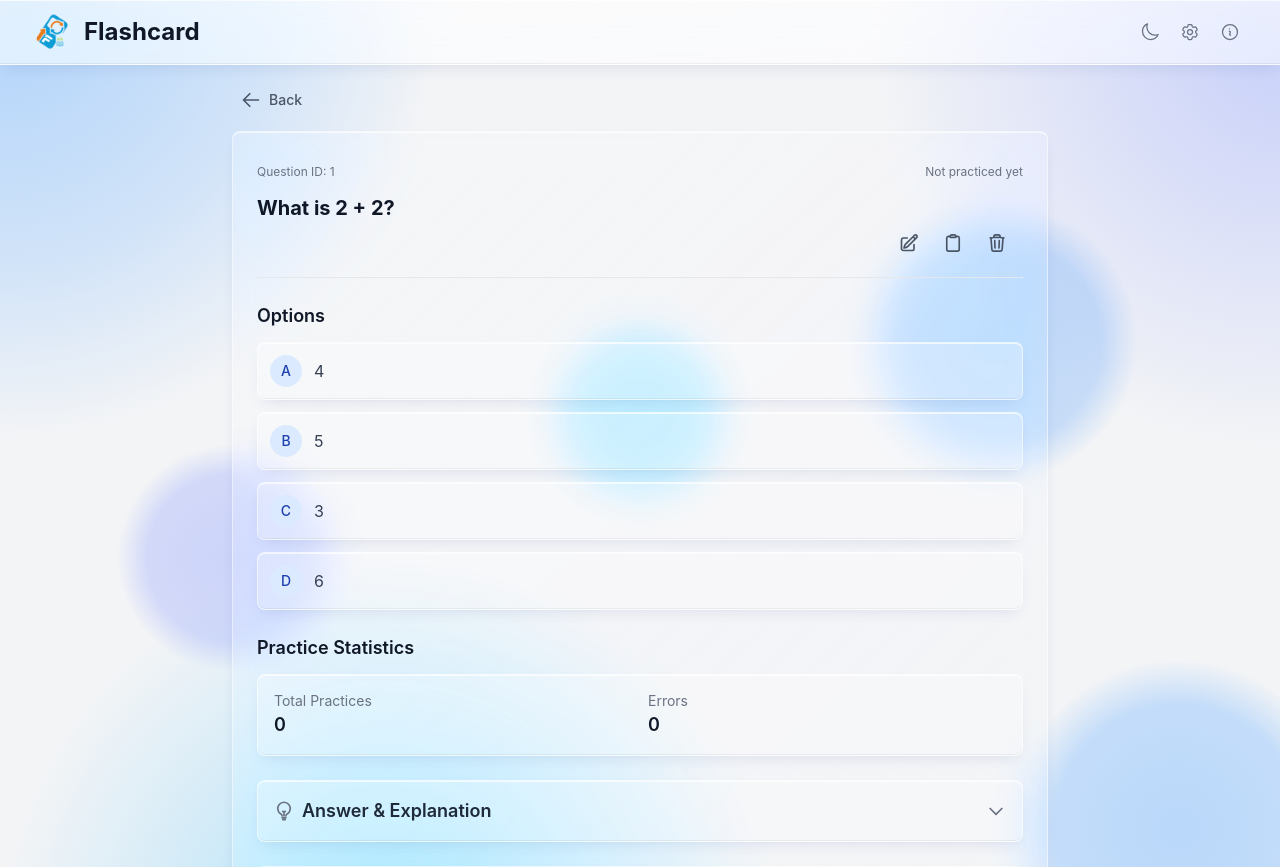
Test: QuestionDetailPage › cancels the delete confirmation without deleting
Expected: the heading "What is 2 + 2?" is shown, [257,196,395,220]
Click the button named "Delete question" at [997, 242], box [979,224,1015,260]
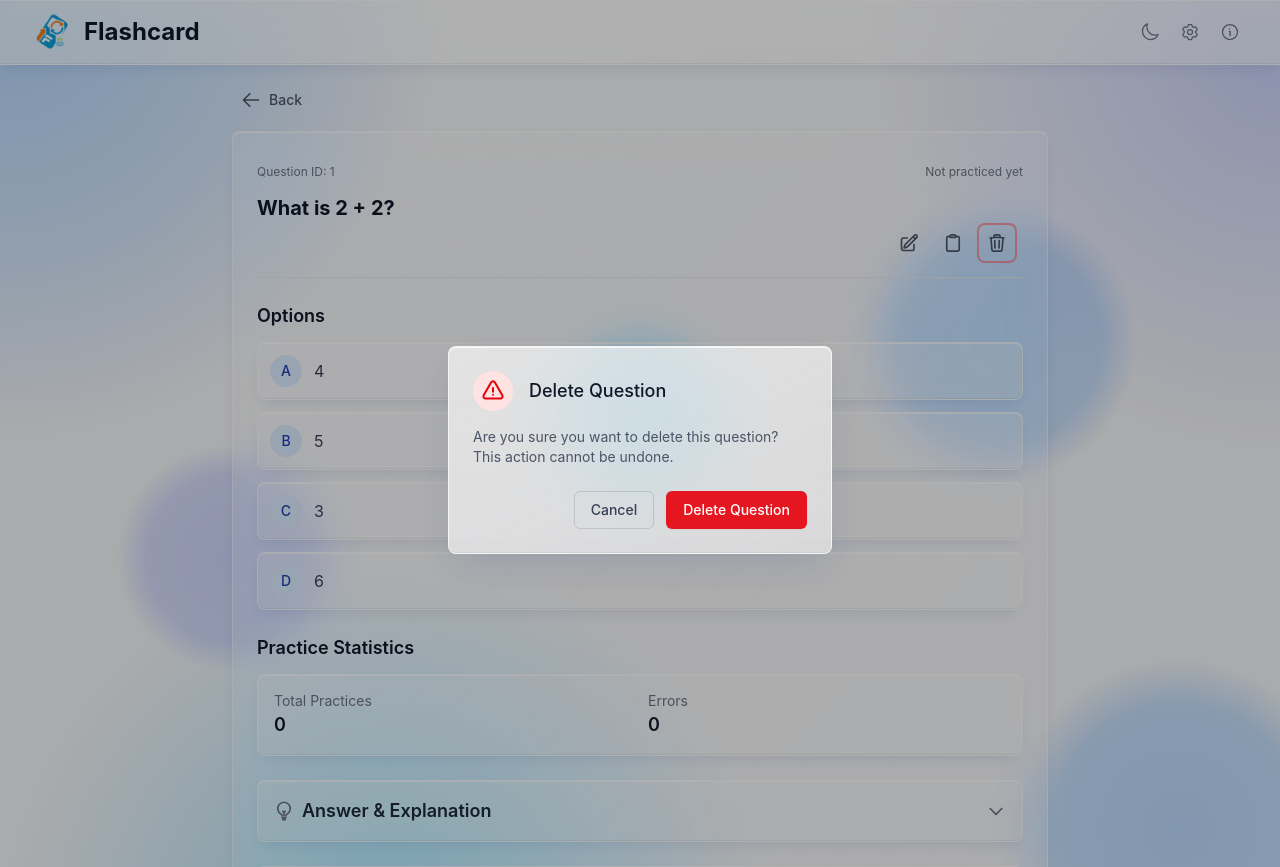
Click the button "Cancel" at [614, 510], box [574,491,654,529]
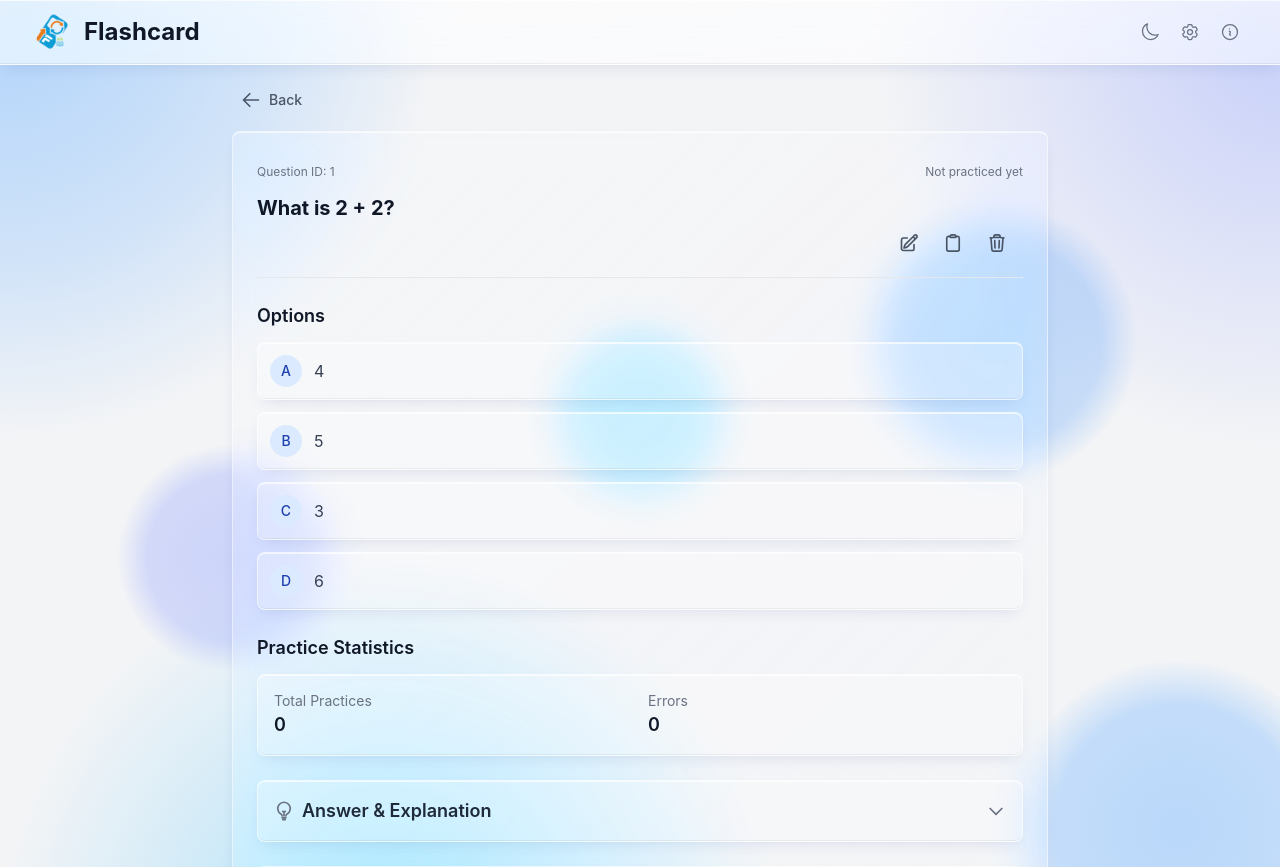
Now the heading "Delete Question" is gone
